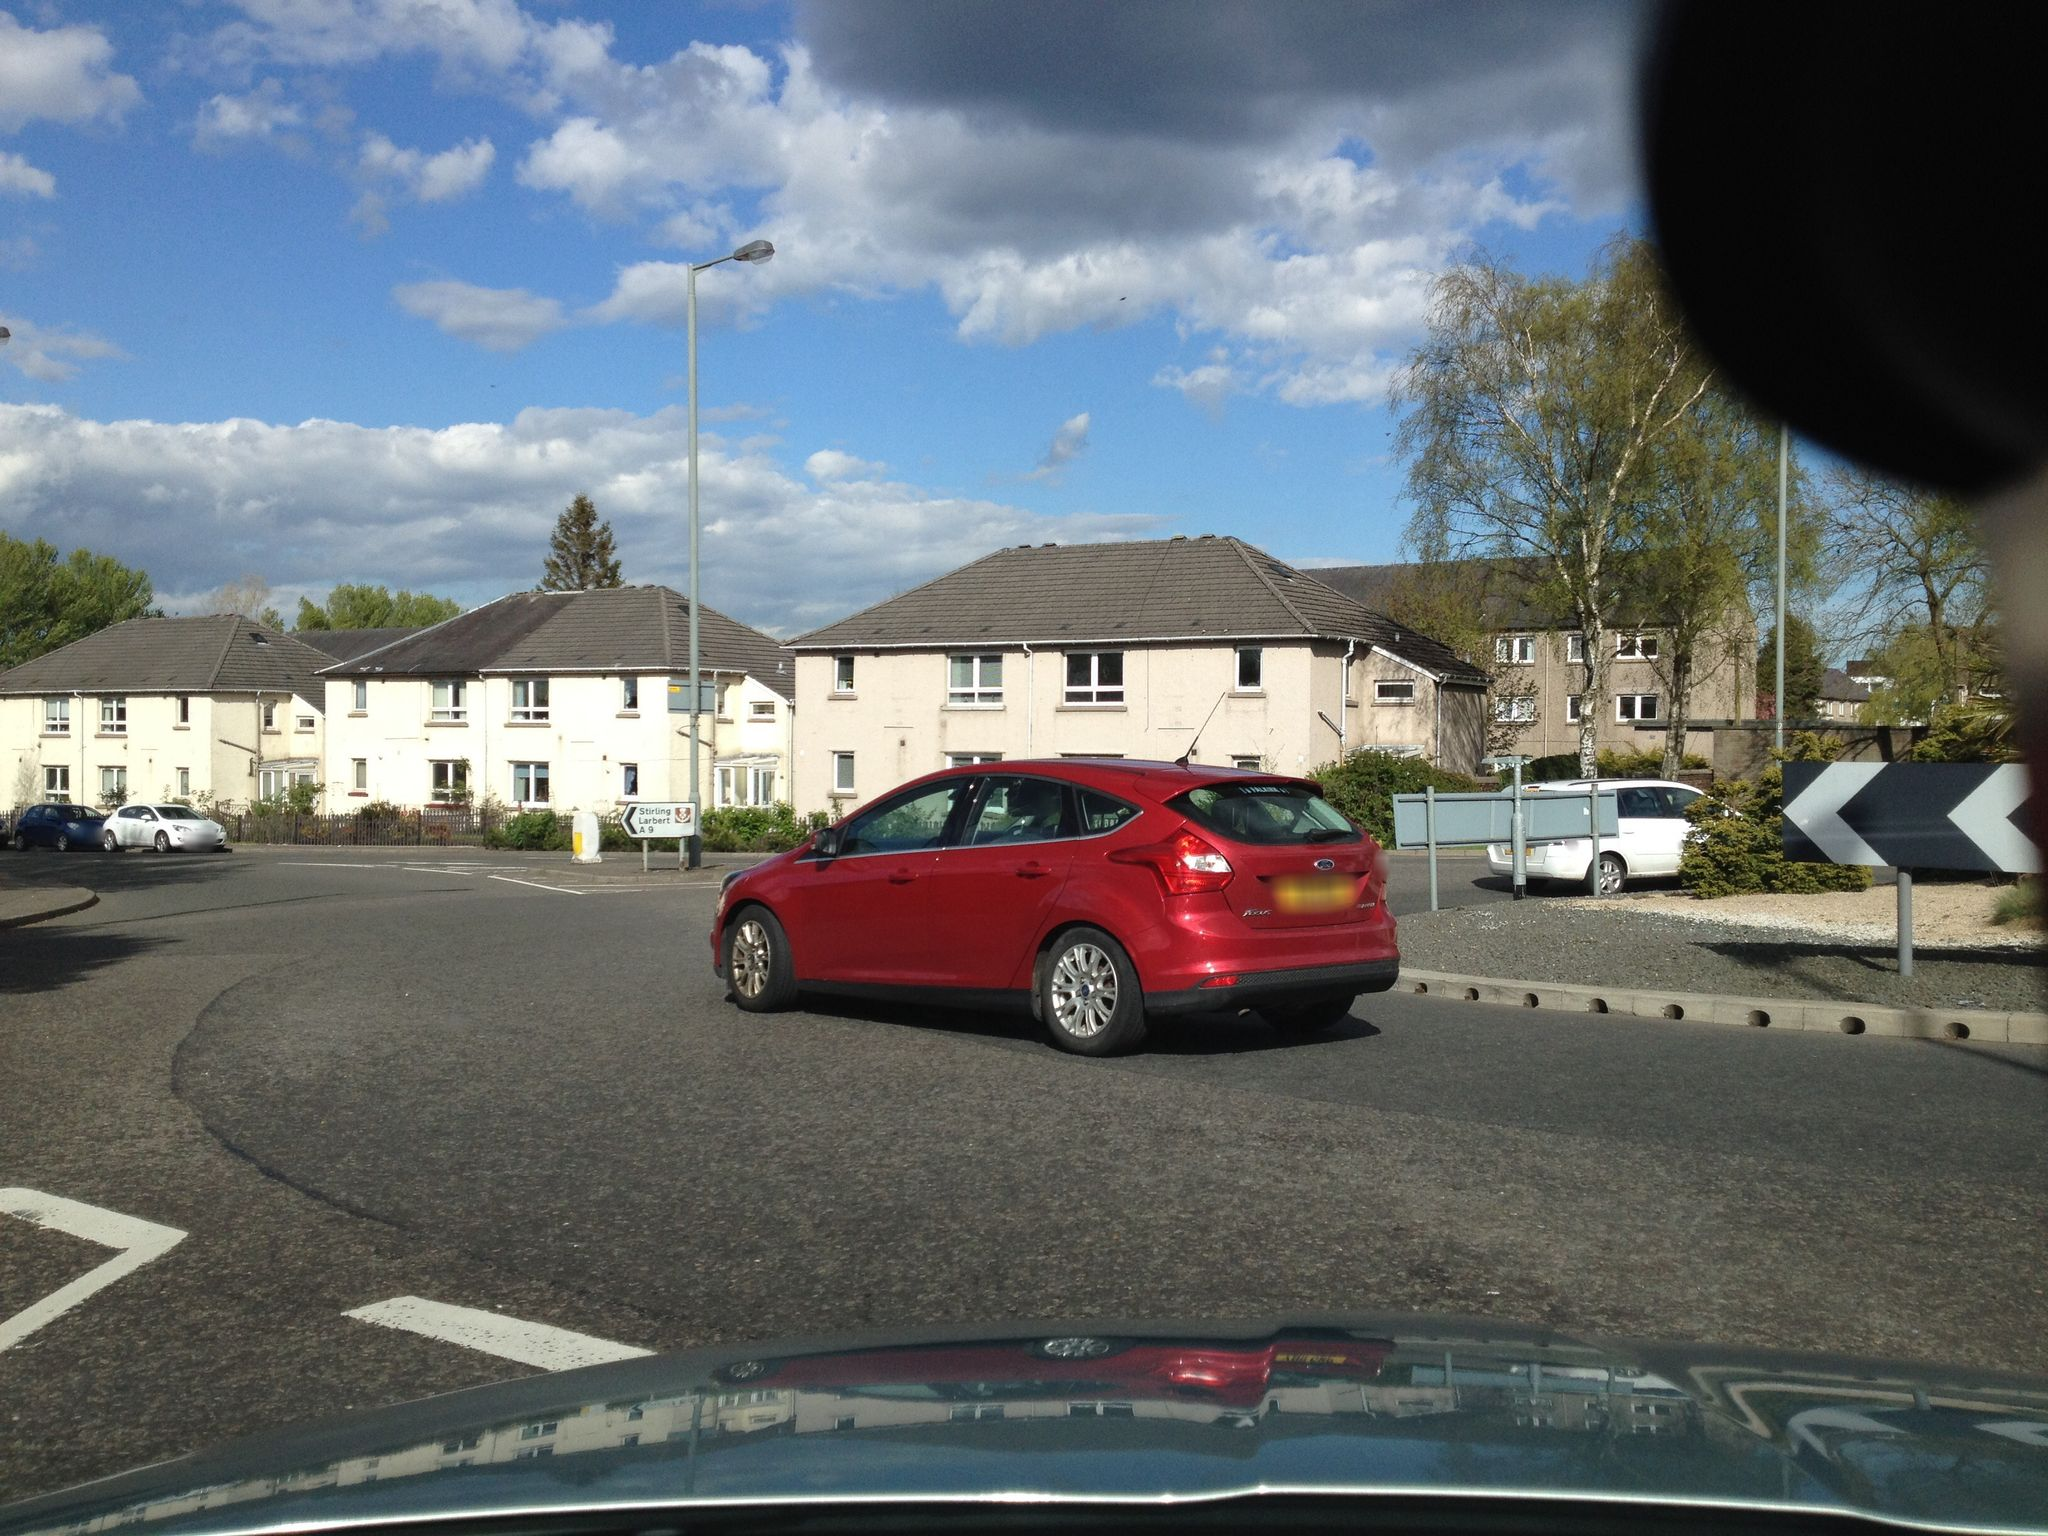car: (713, 757, 1401, 1058), (1487, 776, 1746, 899), (102, 803, 227, 854), (13, 803, 106, 852)
